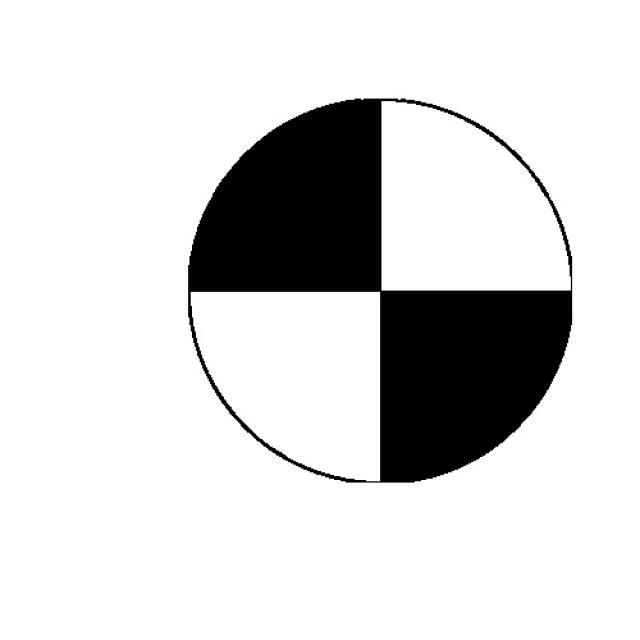Marcadores: (188, 96, 571, 483)
